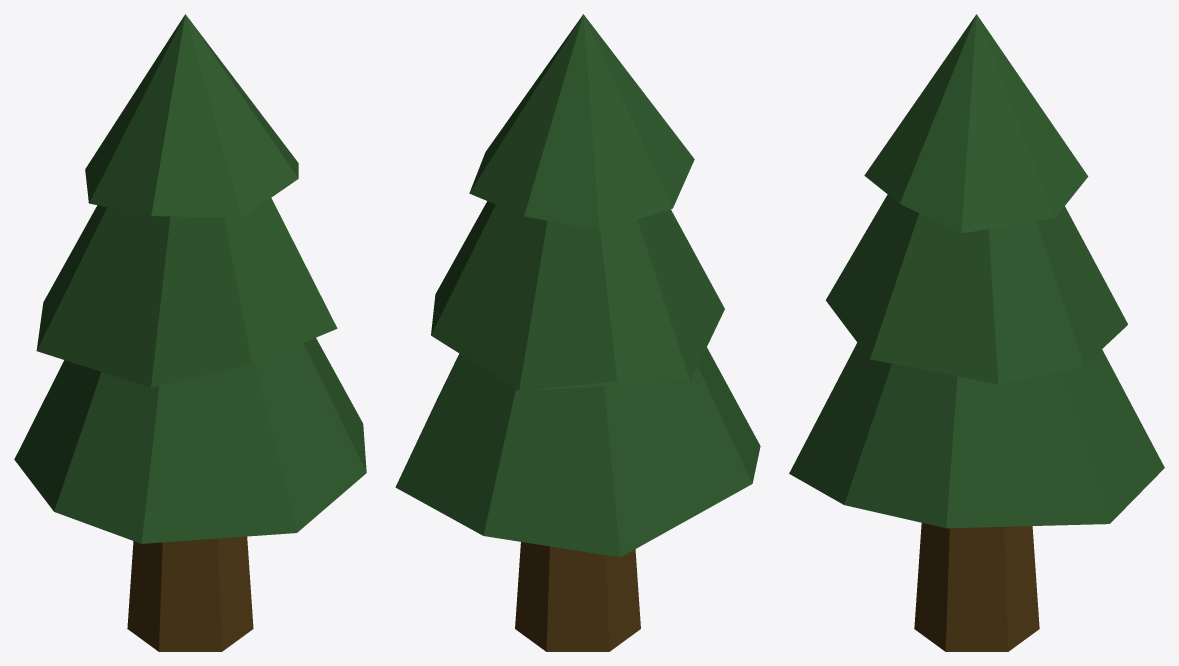
File: Pine Tree.fbx
3 views of the same model, side by side, from view 1: azimuth 30°, elevation 25°; view 2: azimuth 150°, elevation 25°; view 3: azimuth 270°, elevation 25° (orthographic).
Parts seen in each view (by area): view 1: Pine Tree; view 2: Pine Tree; view 3: Pine Tree.
Part boxes in pixels (<box>): Pine Tree: <box>14,14,366,651</box>; Pine Tree: <box>395,14,760,651</box>; Pine Tree: <box>789,14,1164,651</box>.
Size of the model in its own units: 343 by 646 by 359.
